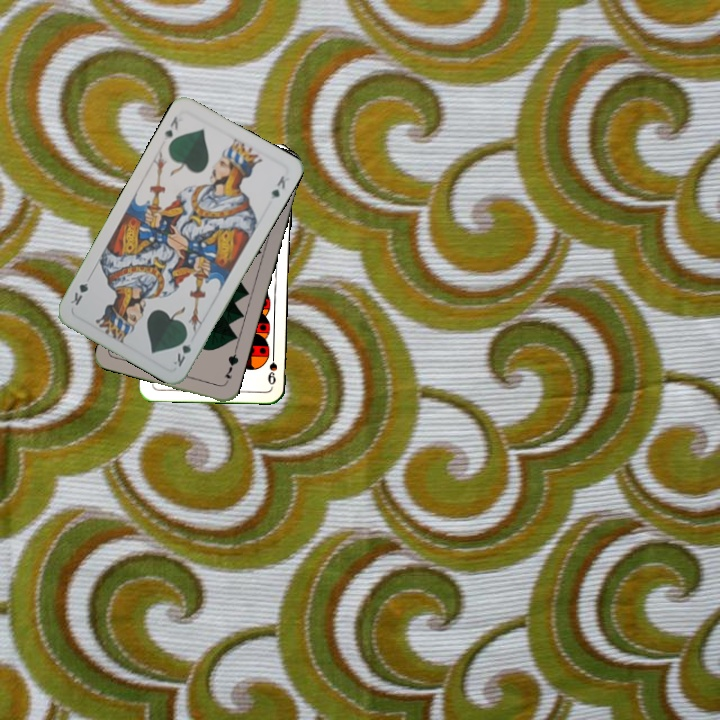G7: (220, 347, 241, 387)
GK: (169, 330, 194, 370), (160, 112, 181, 144)
S9: (264, 347, 280, 387)
